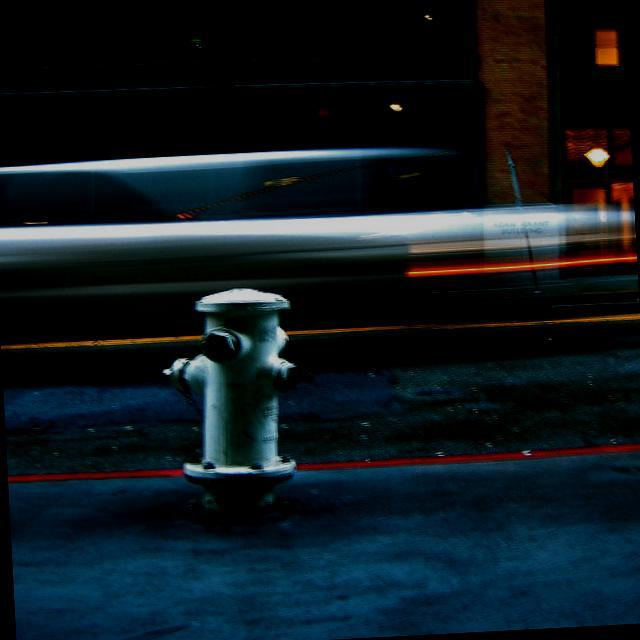fire_hydrant: (152, 284, 318, 524)
